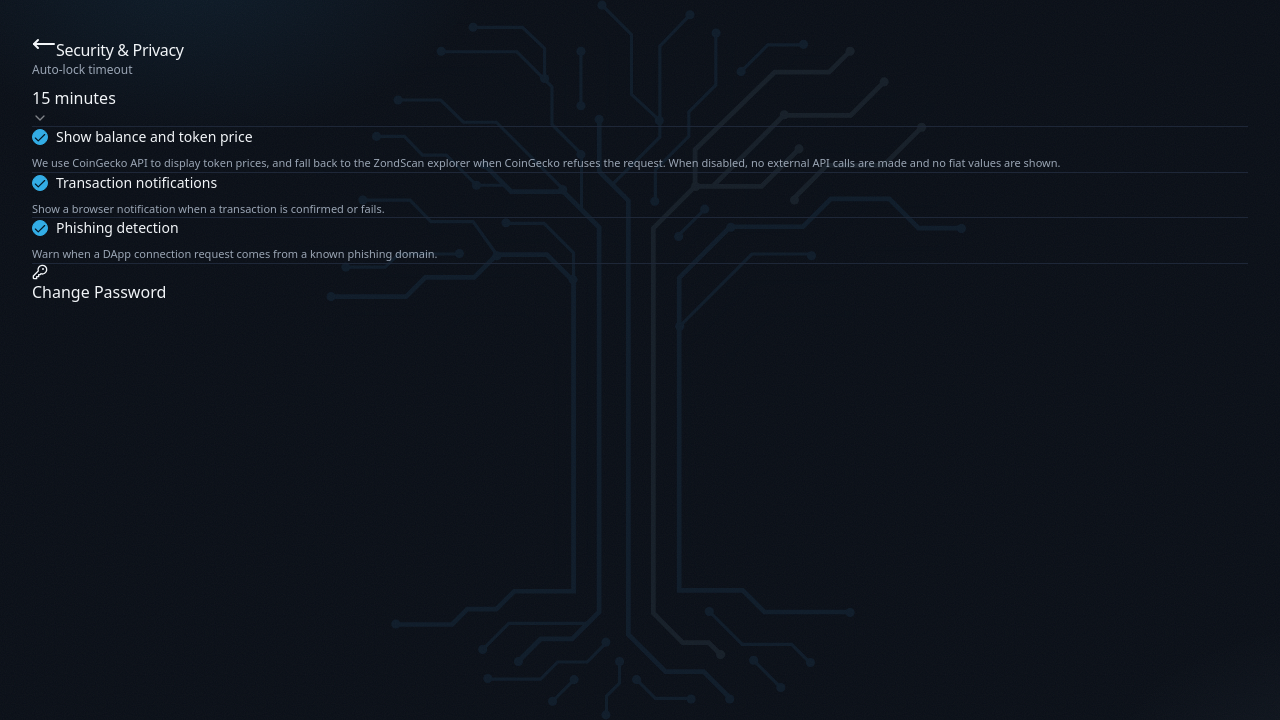
Test: SettingsSecurity › Change Password › should show error when current password is incorrect
The width and height of the screenshot is (1280, 720).
Click the button "Change Password" at (99, 284), box [32, 264, 166, 304]
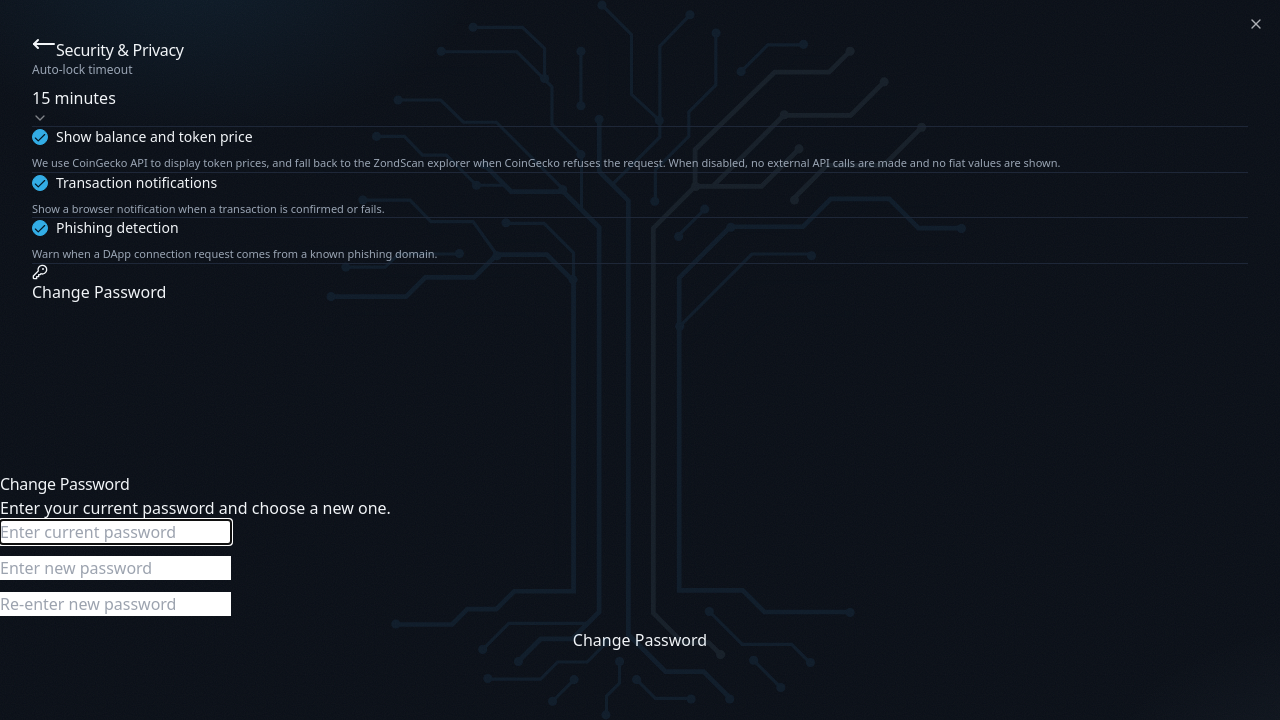
Type "wrongpass123" into the password field labelled "current password" at (116, 532), box [0, 520, 231, 544]
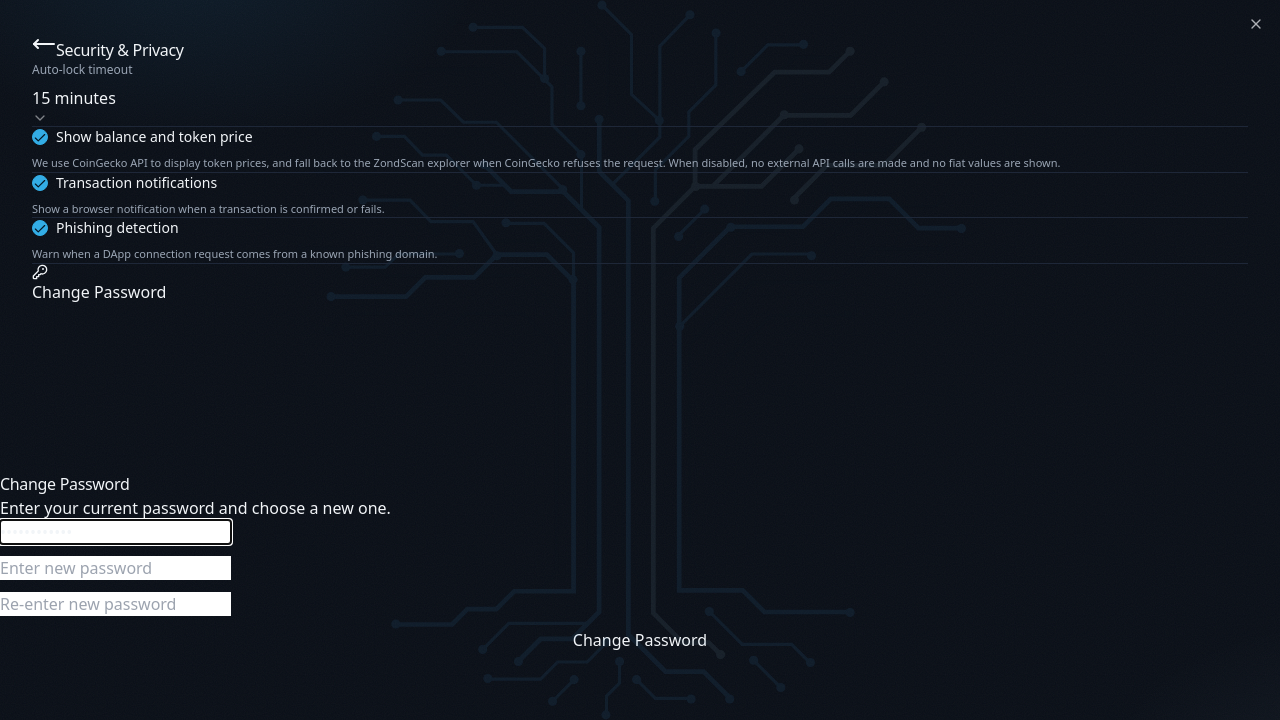
Type "newpass12345" into the password field labelled "new password" at (116, 568), box [0, 556, 231, 580]
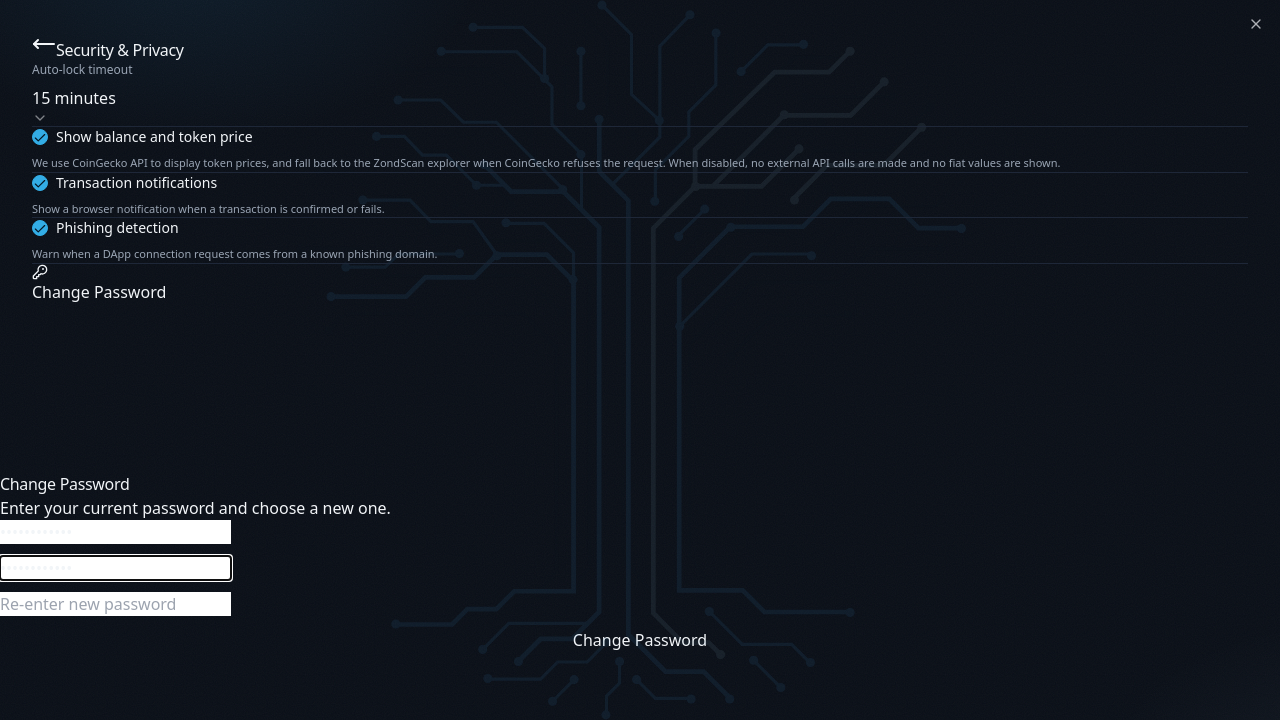
Type "newpass12345" into the password field named "Confirm new password" at (116, 604), box [0, 592, 231, 616]
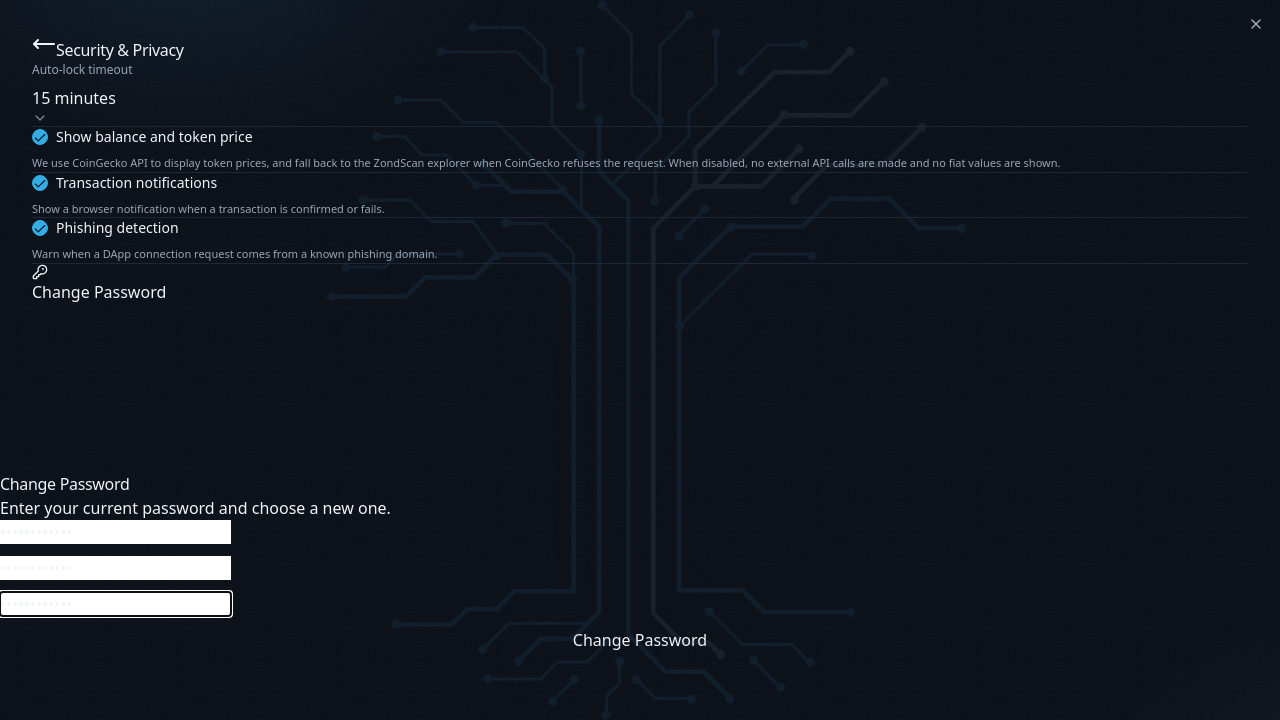
Click the 2nd button "Change Password" at (640, 640), box [0, 628, 1279, 652]
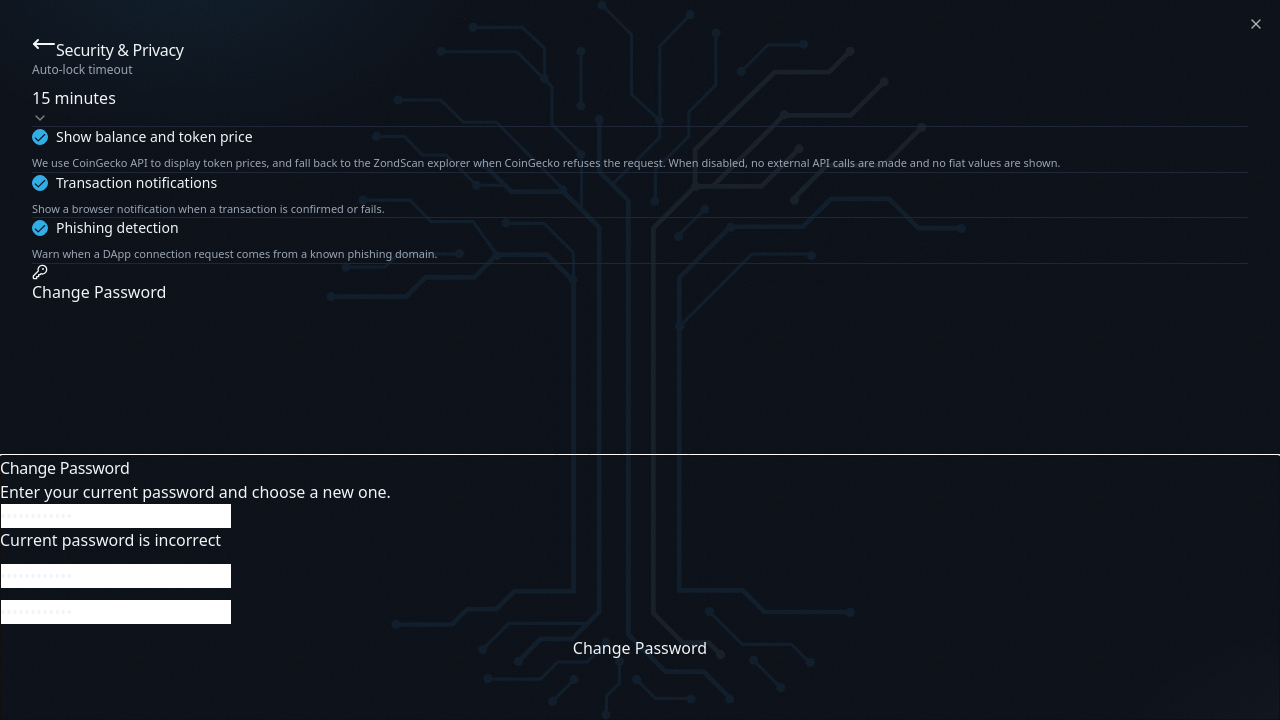
Expected: the text "Current password is incorrect" is shown, [0, 529, 221, 551]
